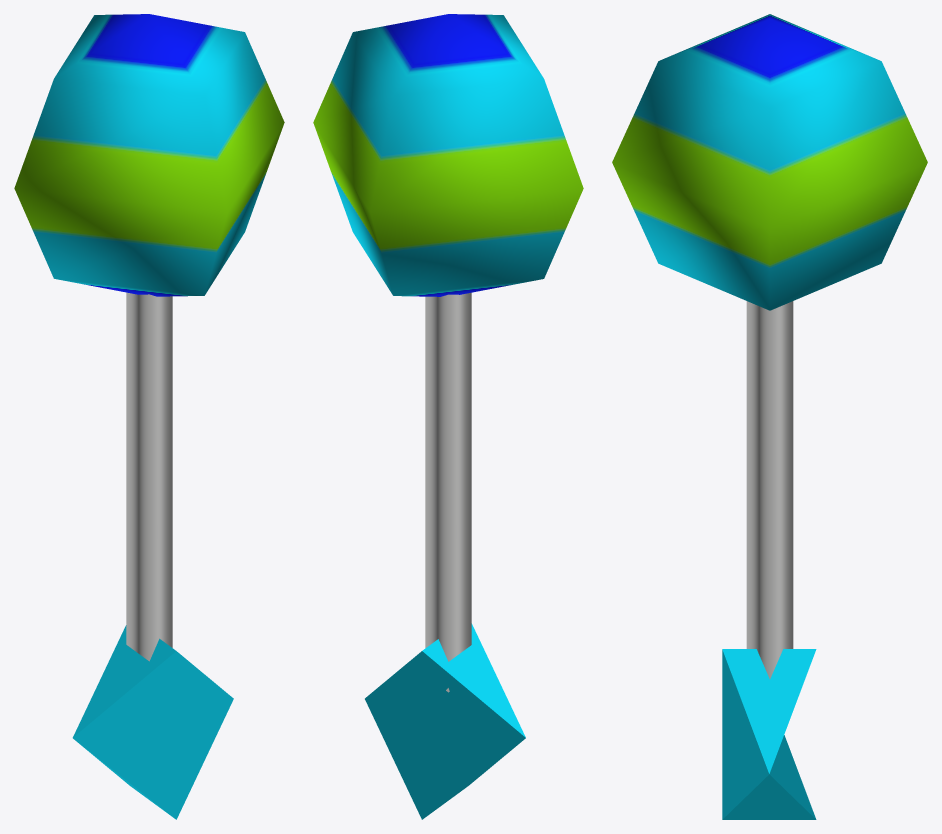
File: Babytoy_4.fbx
3 renders of one model, left to right at view 1: azimuth 30°, elevation 25°; view 2: azimuth 150°, elevation 25°; view 3: azimuth 270°, elevation 25°, orthographic.
Parts seen in each view (by area): view 1: Maya_File_Assets:TexturedAssetsCurrent:joshimport:Rattle_Blu; view 2: Maya_File_Assets:TexturedAssetsCurrent:joshimport:Rattle_Blu; view 3: Maya_File_Assets:TexturedAssetsCurrent:joshimport:Rattle_Blu.
Boxes of the visible parts, <box> form: Maya_File_Assets:TexturedAssetsCurrent:joshimport:Rattle_Blu: <box>14,14,284,819</box>; Maya_File_Assets:TexturedAssetsCurrent:joshimport:Rattle_Blu: <box>313,14,583,819</box>; Maya_File_Assets:TexturedAssetsCurrent:joshimport:Rattle_Blu: <box>612,14,927,819</box>.
Size of the model in its own units: 0.1387 by 0.387 by 0.1387.
